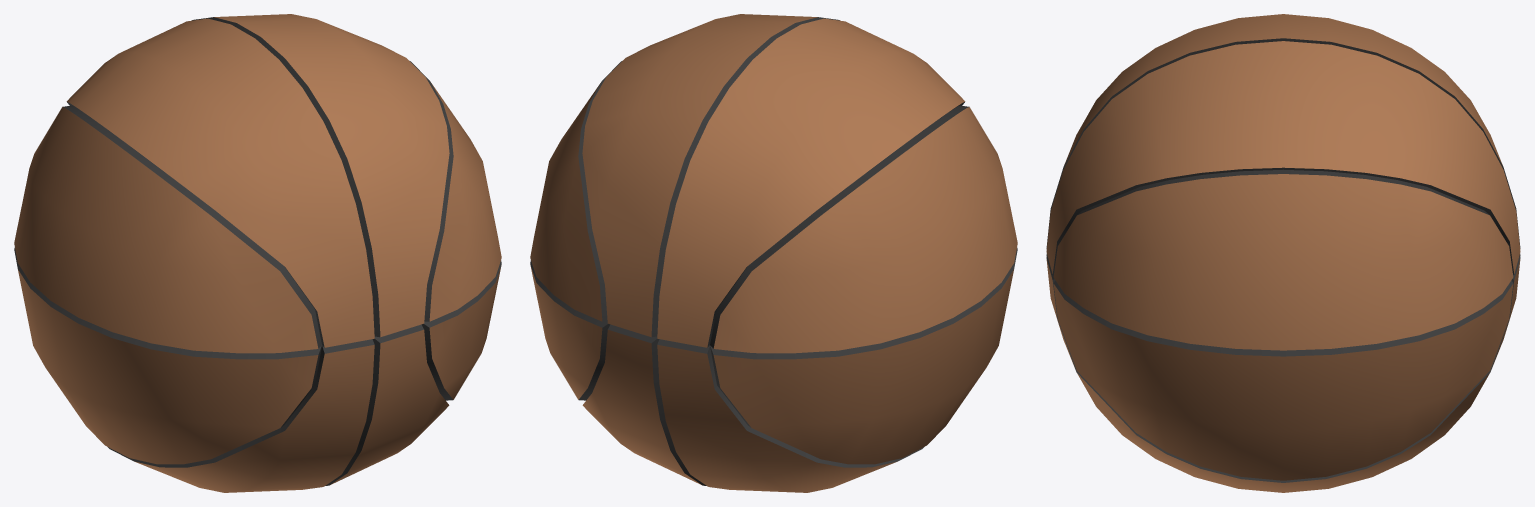
Rendered from Basket Ball Toy.glb.
The picture shows the model from 3 angles, left to right: view 1: azimuth 30°, elevation 25°; view 2: azimuth 150°, elevation 25°; view 3: azimuth 270°, elevation 25°; orthographic projection.
Parts seen in each view (by area): view 1: BasketBall_Toy; view 2: BasketBall_Toy; view 3: BasketBall_Toy.
Part boxes in pixels (x1,y1,x2,y2): BasketBall_Toy: [14, 14, 501, 492]; BasketBall_Toy: [530, 14, 1017, 492]; BasketBall_Toy: [1046, 14, 1520, 492].
Size of the model in its own units: 0.2161 by 0.2152 by 0.2162.
